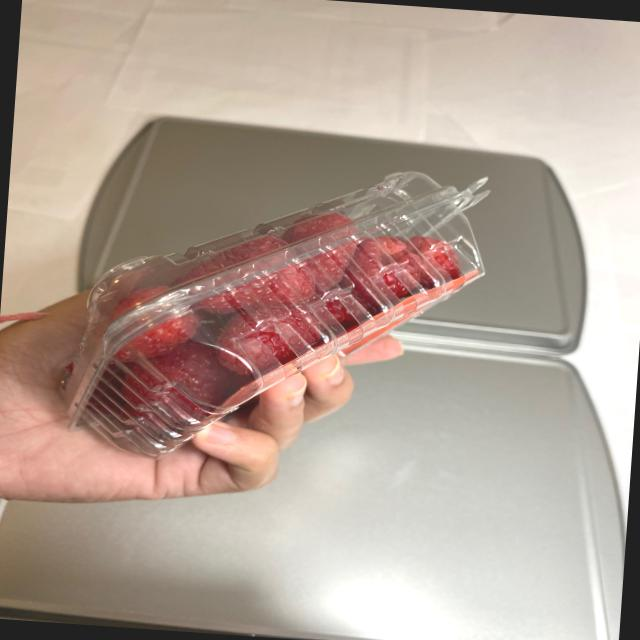raspberries: (88, 182, 474, 448)
